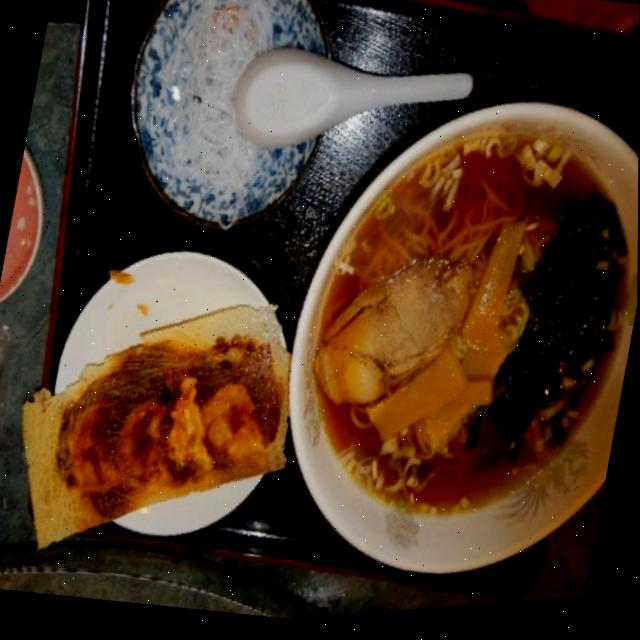带馅早点: (0, 224, 317, 577)
面条主食: (253, 69, 639, 619)
